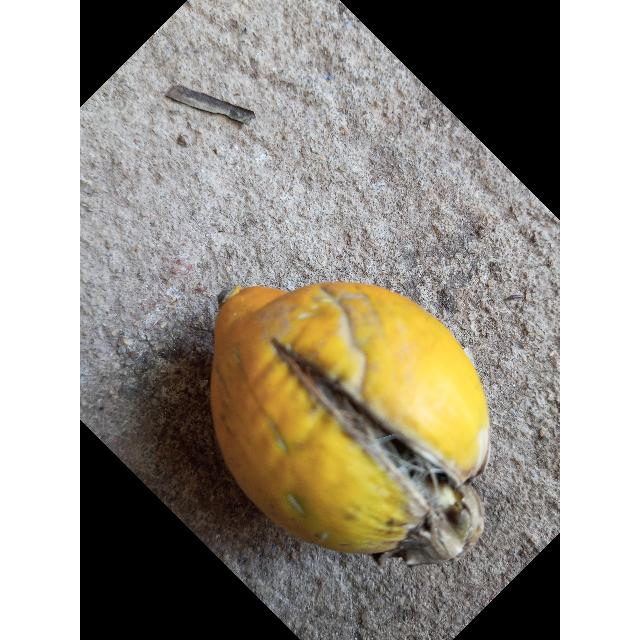damaged: (211, 283, 490, 565)
